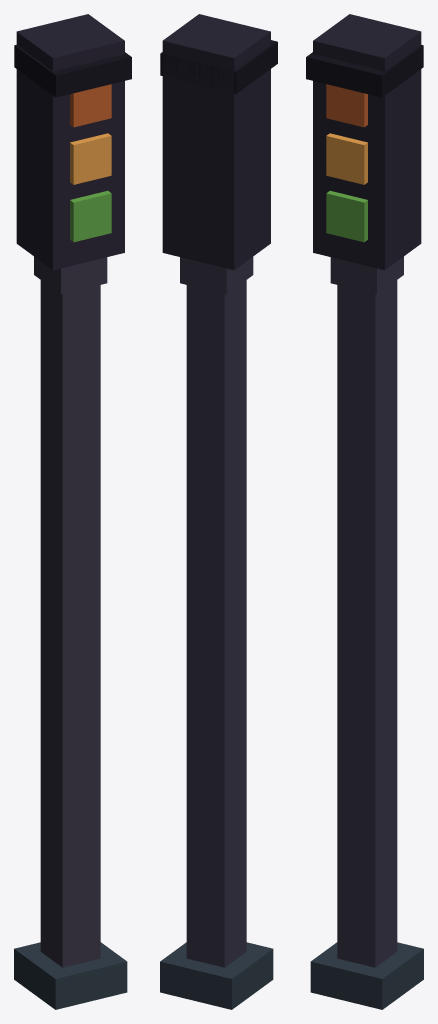
Rendered from traffic_light.obj.
3 views of the same model, side by side, from view 1: azimuth 30°, elevation 25°; view 2: azimuth 150°, elevation 25°; view 3: azimuth 330°, elevation 25° (orthographic).
Parts seen in each view (by area): view 1: traffic_light; view 2: traffic_light; view 3: traffic_light.
Part boxes in pixels (x1,y1,x2,y2): traffic_light: (14, 14, 131, 1009); traffic_light: (160, 14, 277, 1009); traffic_light: (306, 14, 423, 1009).
Size of the model in its own units: 0.36 by 4.3 by 0.36.
